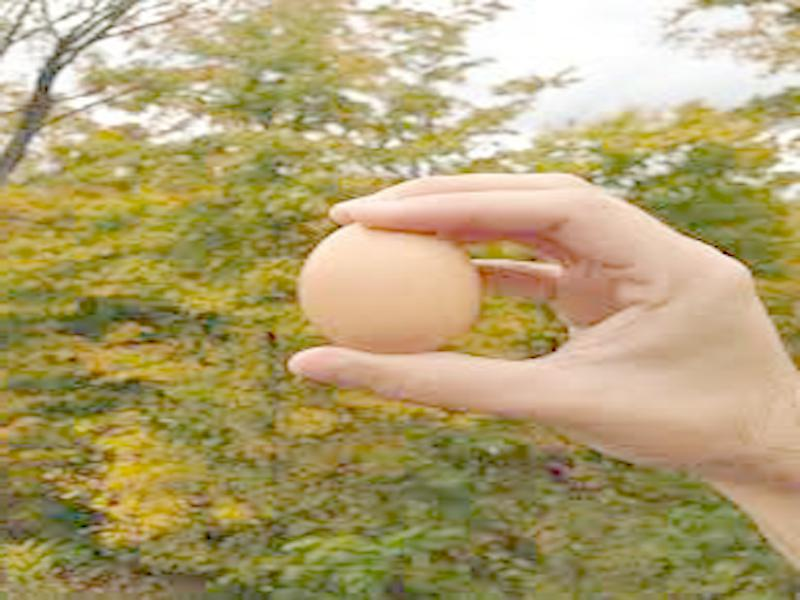Eggs: (300, 220, 477, 354)
